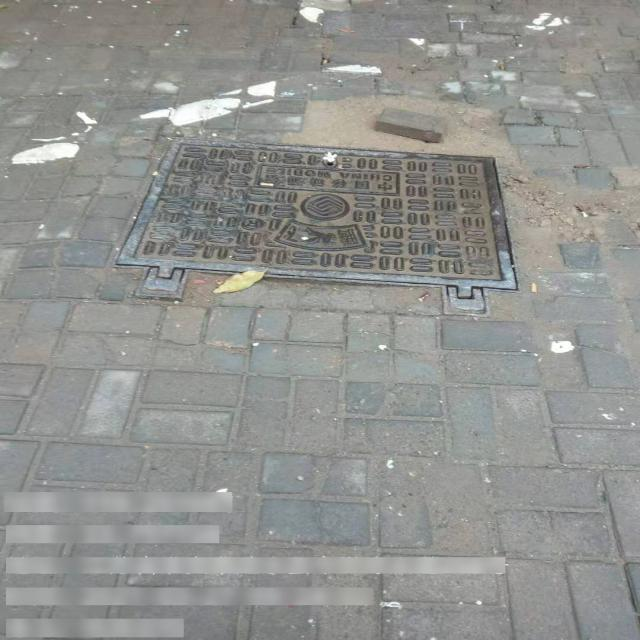Good: (114, 136, 518, 318)
